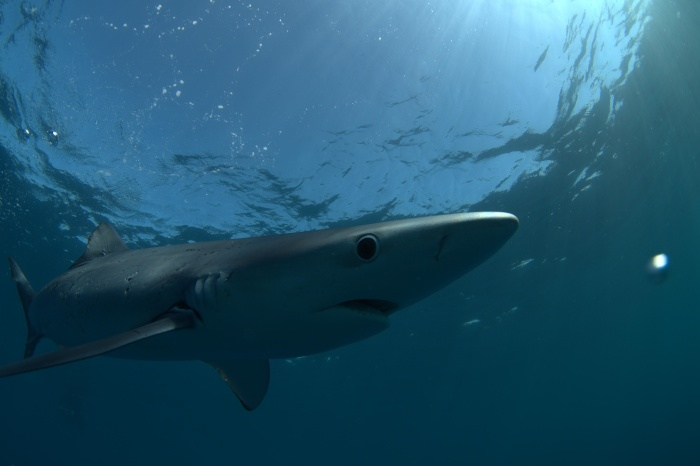Azul: (1, 148, 558, 422)
